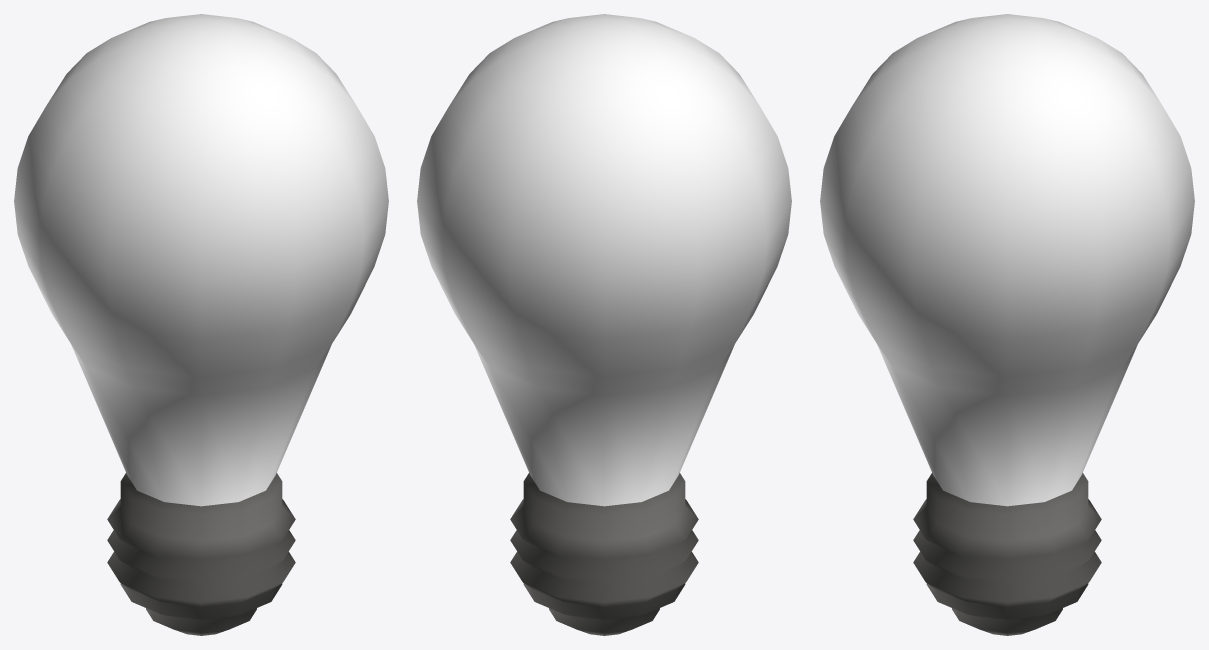
File: Lightbulb.fbx
3 renders of one model, left to right at view 1: azimuth 30°, elevation 25°; view 2: azimuth 150°, elevation 25°; view 3: azimuth 270°, elevation 25°, orthographic.
Visible parts, largest first — view 1: Sphere; view 2: Sphere; view 3: Sphere.
Part boxes in pixels (x1,y1,x2,y2): Sphere: (14,14,388,635); Sphere: (417,14,791,635); Sphere: (820,14,1194,635).
Bounding box in the file's own units: 233 × 409 × 233.
Materials: 1 (1 with a texture image).
